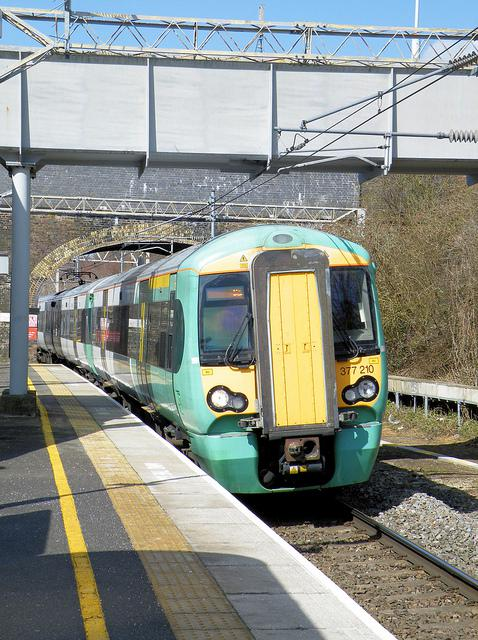Train: (39, 217, 393, 506)
